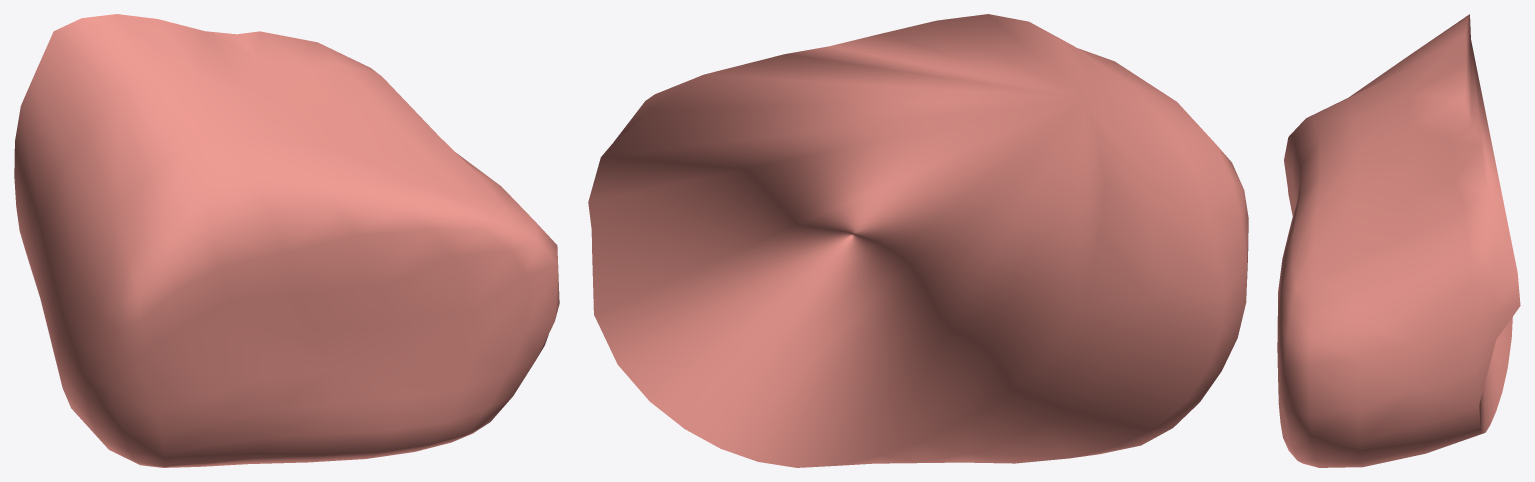
Rendered from foot_sleeve 1.fbx.
The picture shows the model from 3 angles, left to right: view 1: azimuth 30°, elevation 25°; view 2: azimuth 150°, elevation 25°; view 3: azimuth 270°, elevation 25°; orthographic projection. The views are drawn at different scales.
Parts seen in each view (by area): view 1: Beta_Surface.003; view 2: Beta_Surface.003; view 3: Beta_Surface.003.
Part boxes in pixels (x1,y1,x2,y2): Beta_Surface.003: (14,14,559,467); Beta_Surface.003: (588,14,1248,467); Beta_Surface.003: (1277,14,1520,467).
Bounding box in the file's own units: 1046 × 884 × 575.
